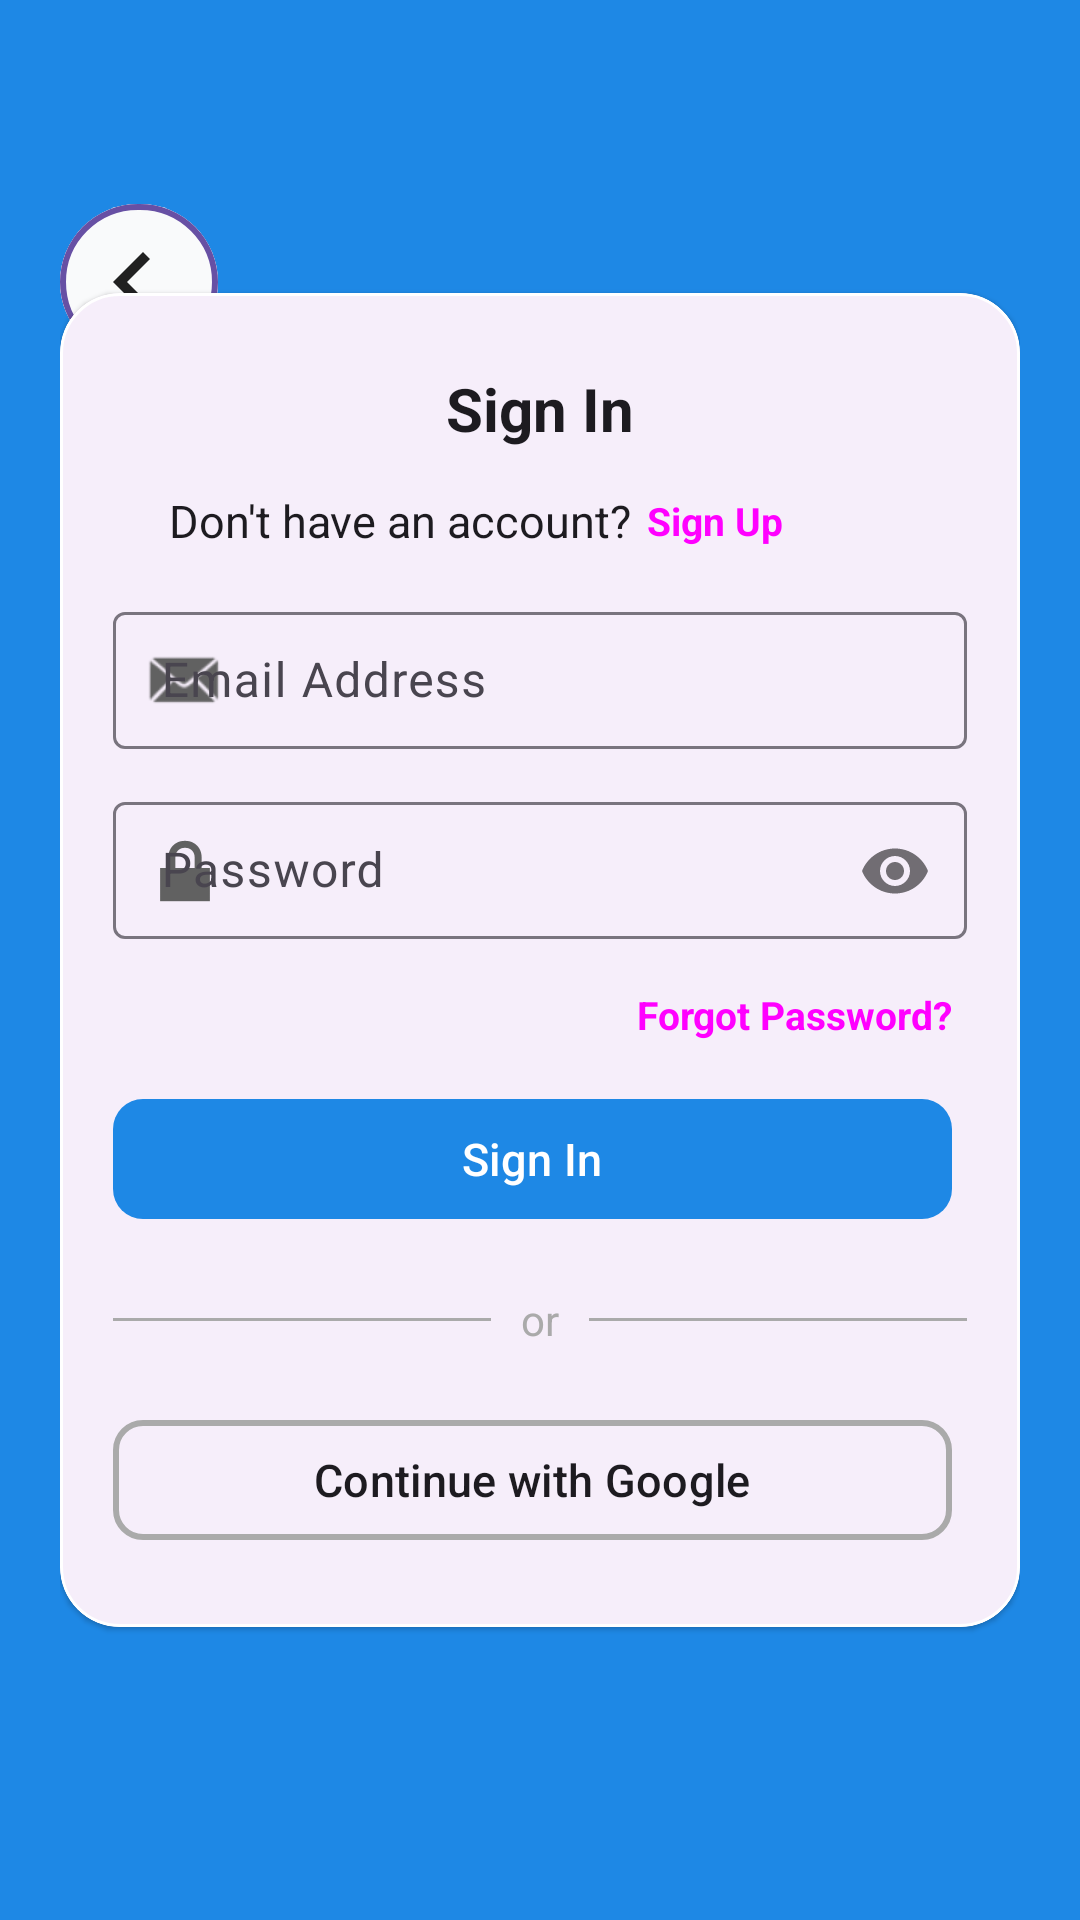

Icon click points for this 1080 x 1920 phone screenshot, format point (x, y):
chevron back: point (139, 288)
